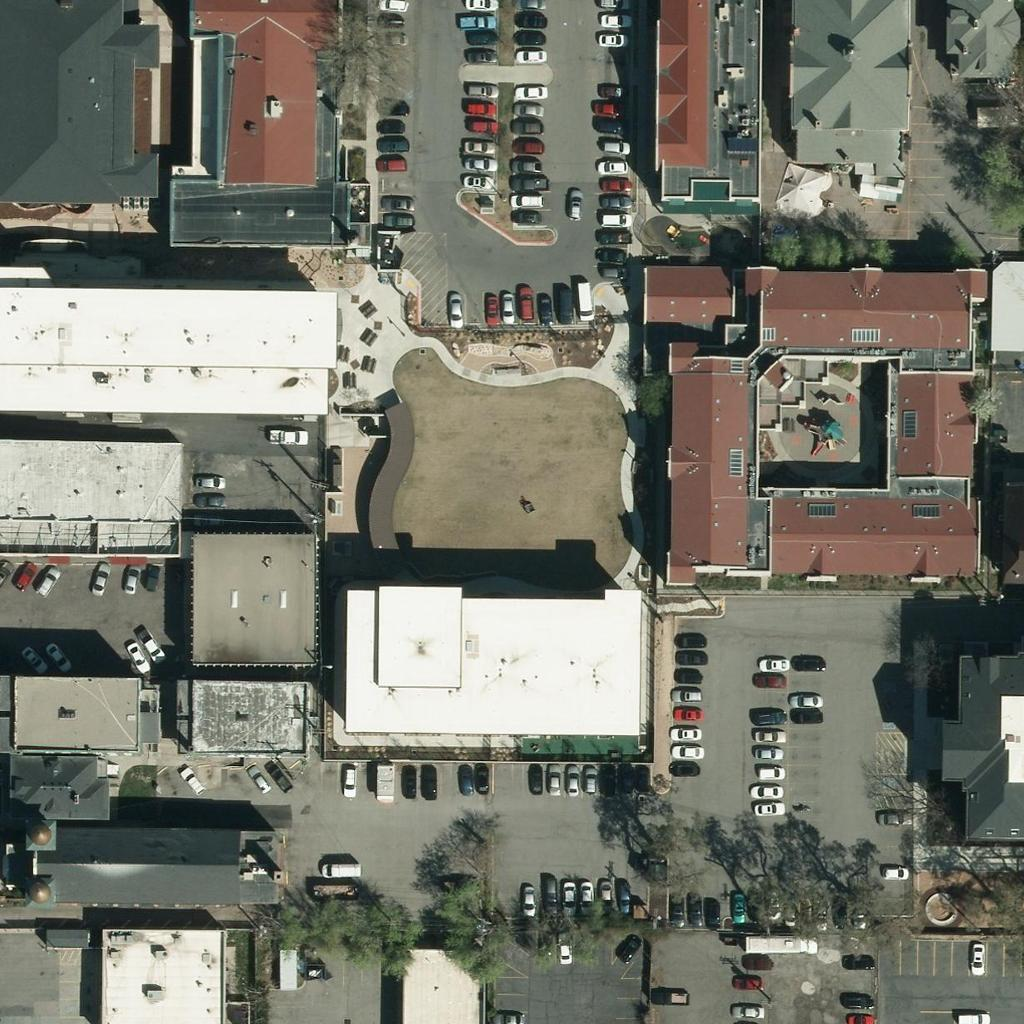car: (515, 2, 549, 36), (597, 3, 631, 37), (373, 4, 407, 38), (460, 4, 494, 38), (467, 18, 501, 52), (509, 19, 543, 53), (594, 20, 628, 54), (377, 21, 411, 55), (513, 37, 547, 71), (462, 39, 496, 73), (464, 72, 498, 106), (595, 72, 629, 106), (513, 73, 547, 107), (374, 90, 408, 124), (462, 90, 496, 124), (592, 90, 626, 124), (509, 92, 543, 126), (595, 107, 629, 141), (466, 108, 500, 142), (509, 108, 543, 142), (373, 109, 407, 143), (377, 127, 411, 161), (461, 128, 495, 162), (509, 129, 543, 163), (596, 129, 630, 163), (462, 144, 496, 178), (375, 146, 409, 180), (510, 147, 544, 181), (595, 148, 629, 182), (460, 163, 494, 197), (511, 165, 545, 199), (598, 166, 632, 200), (508, 183, 542, 217), (598, 184, 632, 218), (380, 186, 414, 220), (557, 186, 591, 220), (508, 198, 542, 232), (599, 200, 633, 234), (382, 203, 416, 237), (596, 219, 630, 253), (594, 237, 628, 271), (596, 254, 630, 288), (507, 286, 541, 320), (546, 287, 580, 321), (439, 289, 473, 323), (567, 289, 601, 323), (490, 290, 524, 324), (473, 292, 507, 326), (527, 293, 561, 327), (273, 419, 307, 453), (190, 464, 224, 498), (193, 481, 227, 515), (191, 500, 225, 534), (5, 560, 39, 594), (113, 561, 147, 595), (82, 562, 116, 596), (134, 563, 168, 597), (27, 565, 61, 599), (676, 623, 710, 657), (132, 627, 166, 661), (40, 638, 74, 672), (119, 638, 153, 672), (674, 640, 708, 674), (16, 642, 50, 676), (791, 646, 825, 680), (757, 647, 791, 681), (671, 659, 705, 693), (753, 662, 787, 696), (672, 679, 706, 713), (788, 683, 822, 717), (671, 696, 705, 730), (790, 698, 824, 732), (751, 700, 785, 734), (669, 716, 703, 750), (751, 718, 785, 752), (669, 733, 703, 767), (749, 735, 783, 769), (666, 750, 700, 784), (259, 755, 293, 789), (752, 756, 786, 790), (609, 759, 643, 793), (465, 761, 499, 795), (590, 761, 624, 795), (623, 761, 657, 795), (243, 762, 277, 796), (518, 762, 552, 796), (175, 763, 209, 797), (330, 763, 364, 797), (448, 763, 482, 797), (536, 763, 570, 797), (554, 765, 588, 799), (572, 765, 606, 799), (412, 766, 446, 800), (391, 769, 425, 803), (749, 772, 783, 806), (750, 790, 784, 824), (874, 801, 908, 835), (317, 853, 351, 887), (876, 854, 910, 888), (532, 877, 566, 911), (552, 877, 586, 911), (568, 877, 602, 911), (606, 877, 640, 911), (587, 878, 621, 912), (511, 882, 545, 916), (757, 887, 791, 921), (737, 888, 771, 922), (721, 890, 755, 924), (678, 893, 712, 927), (771, 893, 805, 927), (661, 894, 695, 928), (696, 895, 730, 929), (822, 895, 856, 929), (803, 896, 837, 930), (841, 896, 875, 930), (527, 928, 561, 962), (547, 931, 581, 965), (611, 932, 645, 966), (960, 940, 994, 974), (738, 943, 772, 977), (844, 944, 878, 978), (731, 966, 765, 1000), (647, 979, 681, 1013), (839, 981, 873, 1015), (731, 994, 765, 1024), (844, 1001, 878, 1024), (955, 1001, 989, 1024), (492, 1002, 526, 1024), (375, 0, 409, 20), (463, 0, 497, 19), (514, 0, 548, 19), (596, 0, 630, 18), (0, 557, 17, 591)
